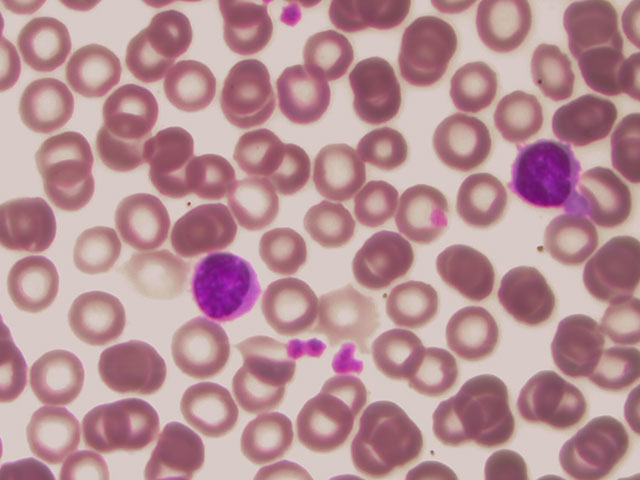Platelets: (331, 336, 362, 375), (285, 333, 327, 359), (277, 1, 305, 27)
RBC: (99, 339, 163, 397), (66, 41, 121, 99), (19, 73, 74, 131), (16, 14, 71, 72), (35, 115, 90, 173), (39, 159, 94, 217), (4, 197, 59, 255), (6, 254, 61, 312), (66, 221, 121, 279), (111, 193, 166, 251), (127, 246, 182, 304), (71, 288, 126, 346), (29, 346, 84, 404), (23, 402, 78, 460), (109, 392, 164, 450), (76, 398, 131, 456), (149, 422, 204, 480), (182, 378, 237, 436), (173, 317, 228, 375), (234, 333, 289, 391), (233, 356, 288, 414), (238, 405, 293, 463), (290, 403, 345, 461), (318, 370, 373, 428), (359, 408, 414, 466), (370, 329, 425, 387), (403, 345, 458, 403), (444, 303, 499, 361), (388, 276, 443, 334), (322, 281, 377, 339), (267, 273, 322, 331), (255, 221, 310, 279), (229, 173, 284, 231), (180, 197, 235, 255), (187, 150, 242, 208), (149, 151, 204, 209), (143, 116, 198, 174), (94, 120, 149, 178), (104, 79, 159, 137), (163, 56, 217, 115), (118, 24, 172, 83), (146, 6, 200, 65), (224, 54, 278, 113), (277, 67, 331, 126), (300, 25, 354, 84), (351, 60, 405, 119), (360, 122, 414, 181), (314, 141, 368, 200), (274, 142, 328, 201), (230, 119, 284, 178), (305, 194, 359, 253), (350, 168, 404, 227), (397, 184, 451, 243), (453, 170, 507, 229), (436, 116, 490, 175), (446, 52, 500, 111), (398, 22, 452, 81), (491, 81, 545, 140), (526, 45, 580, 104), (586, 164, 640, 223), (542, 210, 596, 269), (500, 264, 554, 323), (444, 244, 498, 303), (358, 230, 412, 289), (461, 367, 515, 426), (423, 395, 477, 454), (525, 371, 579, 430), (550, 312, 604, 371), (586, 343, 640, 402), (577, 413, 631, 472), (586, 240, 640, 299), (475, 1, 529, 59)
WBC: (191, 251, 260, 318), (512, 138, 581, 205)
